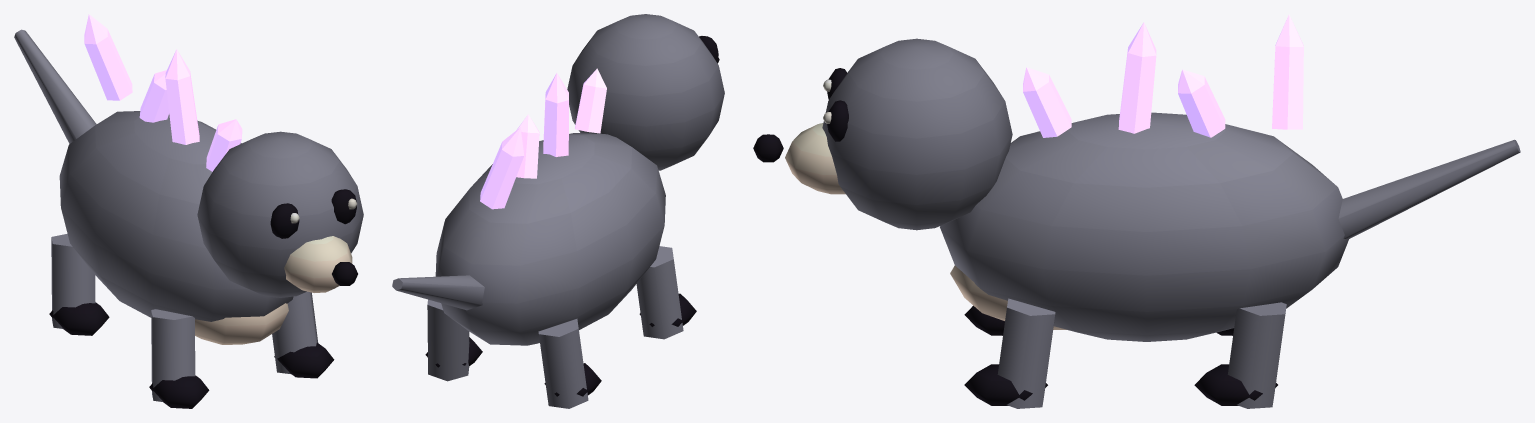
File: monster_crystal_mole.glb
3 views of the same model, side by side, from view 1: azimuth 30°, elevation 25°; view 2: azimuth 150°, elevation 25°; view 3: azimuth 270°, elevation 25° (orthographic). The views are drawn at different scales.
Visible parts, largest first — view 1: body_t0_palette, legl_t0_palette, body_t0_crystal_violet, legr_t0_palette, tail_t0_palette; view 2: body_t0_palette, legl_t0_palette, body_t0_crystal_violet, legr_t0_palette, tail_t0_palette; view 3: body_t0_palette, legr_t0_palette, body_t0_crystal_violet, tail_t0_palette, legl_t0_palette.
Boxes of the visible parts, x1,y1,x2,y2 form: body_t0_palette: [59, 111, 363, 344]; legl_t0_palette: [49, 233, 209, 408]; body_t0_crystal_violet: [84, 14, 242, 171]; legr_t0_palette: [272, 291, 334, 378]; tail_t0_palette: [14, 29, 96, 143]; body_t0_palette: [435, 14, 724, 345]; legl_t0_palette: [538, 246, 696, 408]; body_t0_crystal_violet: [480, 68, 606, 209]; legr_t0_palette: [425, 299, 482, 381]; tail_t0_palette: [392, 275, 484, 310]; body_t0_palette: [753, 38, 1348, 341]; legr_t0_palette: [964, 298, 1286, 408]; body_t0_crystal_violet: [1023, 14, 1303, 137]; tail_t0_palette: [1338, 139, 1520, 238]; legl_t0_palette: [964, 305, 1233, 335].
Bounding box in the file's own units: 0.18 × 0.2957 × 0.6005.
